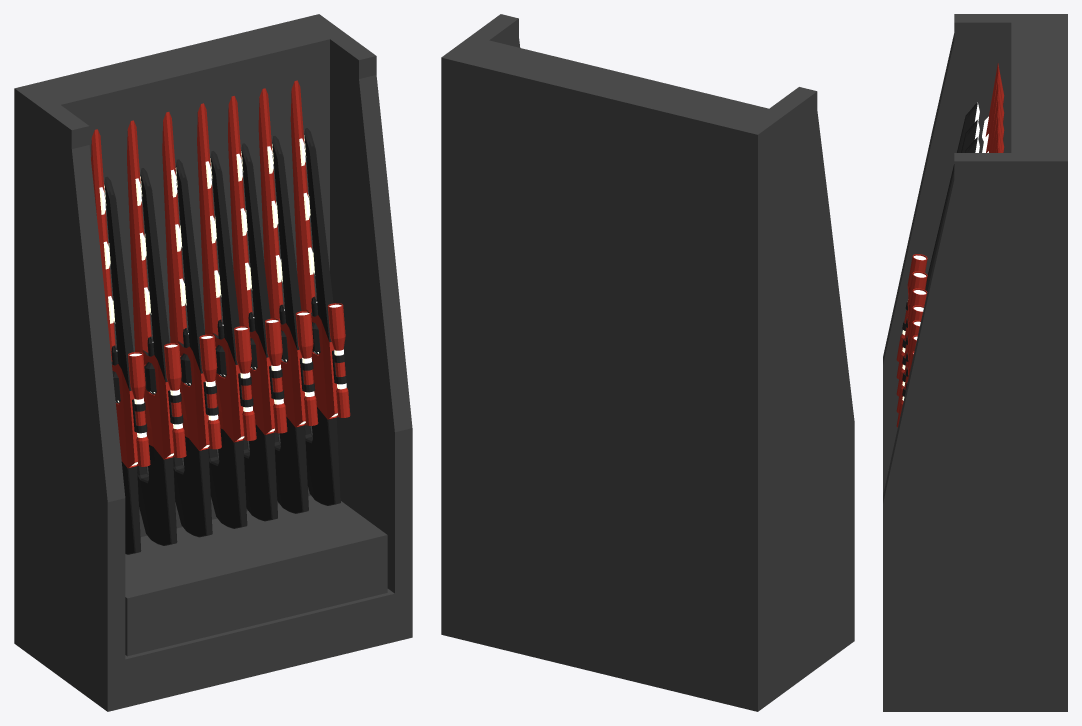
Rendered from weaponlocker1.fbx.
The picture shows the model from 3 angles, left to right: view 1: azimuth 30°, elevation 25°; view 2: azimuth 150°, elevation 25°; view 3: azimuth 270°, elevation 25°; orthographic projection. The views are drawn at different scales.
Parts seen in each view (by area): view 1: locker; view 2: locker; view 3: locker.
Boxes of the visible parts, left/top/right/bottom form: locker: left=14, top=14, right=412, bottom=711; locker: left=441, top=14, right=854, bottom=711; locker: left=883, top=14, right=1067, bottom=711.
Size of the model in its own units: 200 by 348 by 106.
